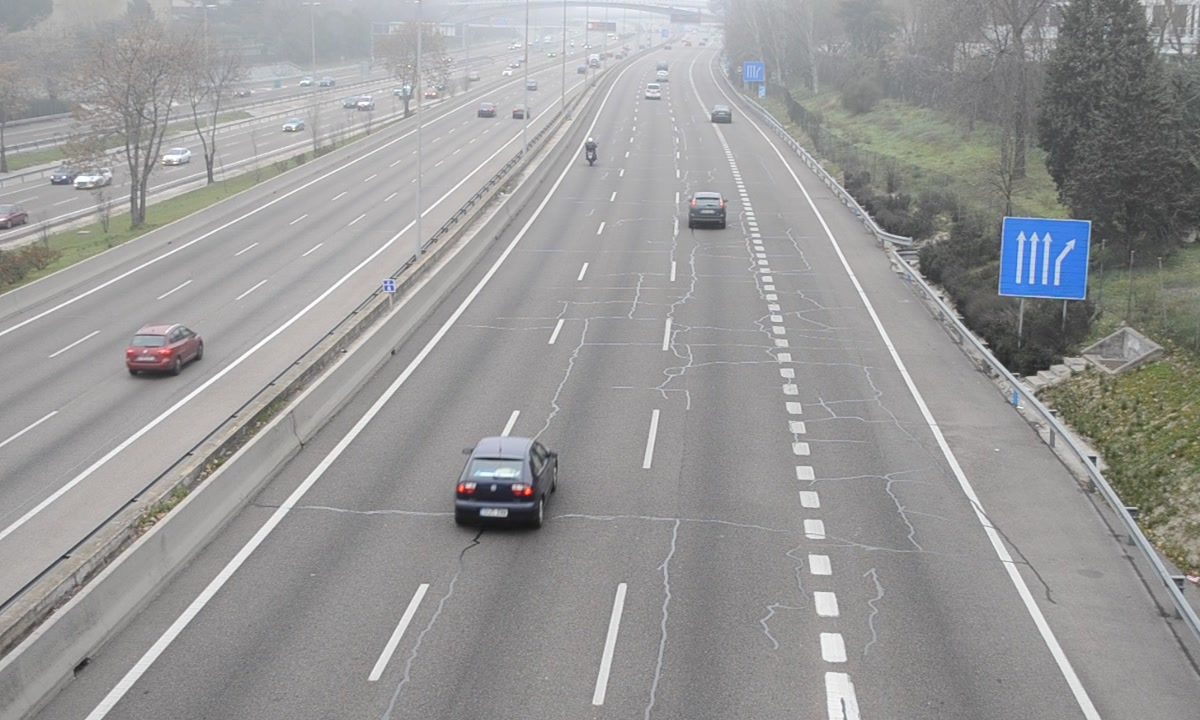car: (454, 438, 560, 529), (687, 192, 728, 231), (710, 105, 732, 124)
motorcycle: (583, 137, 598, 171)
